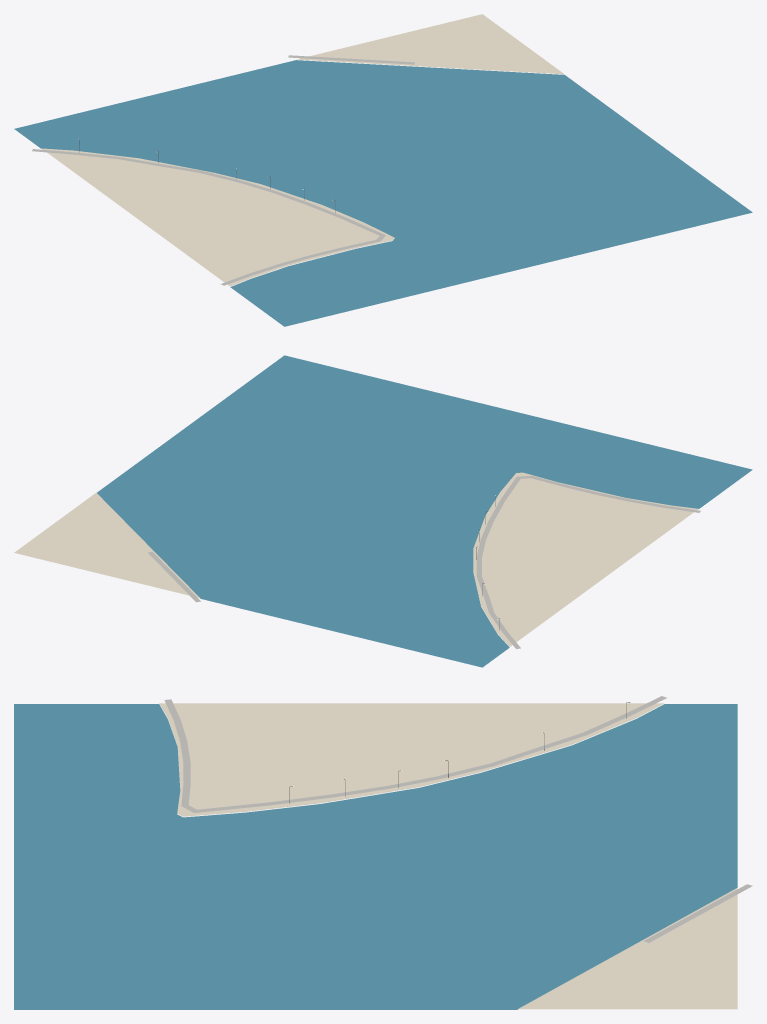
Rendered from tile_-3_6.glb.
3 renders of one model, top to bottom at view 1: azimuth 30°, elevation 25°; view 2: azimuth 150°, elevation 25°; view 3: azimuth 270°, elevation 25°, orthographic. The views are drawn at different scales.
Visible parts, largest first — view 1: nature_water, nature_ground, roads_sidewalk; view 2: nature_water, nature_ground, roads_sidewalk; view 3: nature_water, nature_ground, roads_sidewalk.
Part boxes in pixels (<box>): nature_water: <box>14,60,752,326</box>; nature_ground: <box>41,14,564,286</box>; roads_sidewalk: <box>32,55,414,285</box>; nature_water: <box>97,355,752,667</box>; nature_ground: <box>14,472,697,646</box>; roads_sidewalk: <box>148,476,700,649</box>; nature_water: <box>14,704,737,1009</box>; nature_ground: <box>159,703,737,1009</box>; roads_sidewalk: <box>164,696,752,942</box>.
Bounding box in the file's own units: 256 × 6.85 × 255.
